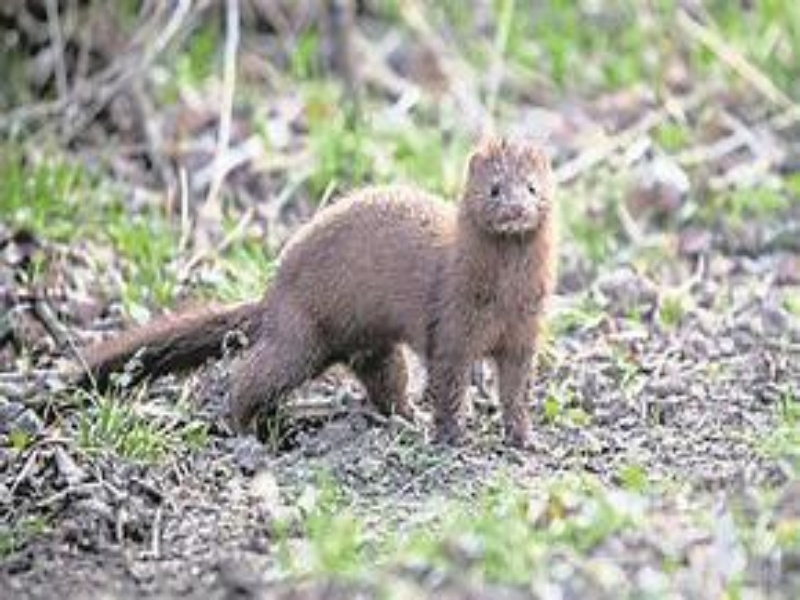minkish: (61, 140, 559, 449)
